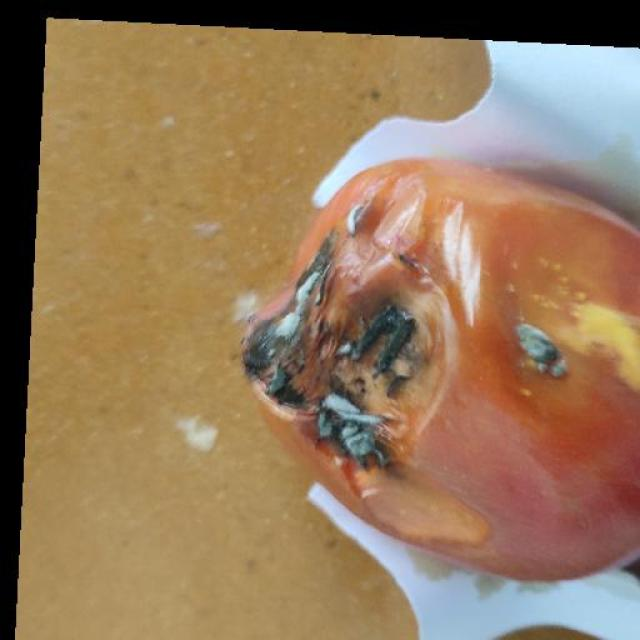Stale_tomato: (240, 145, 640, 592)
